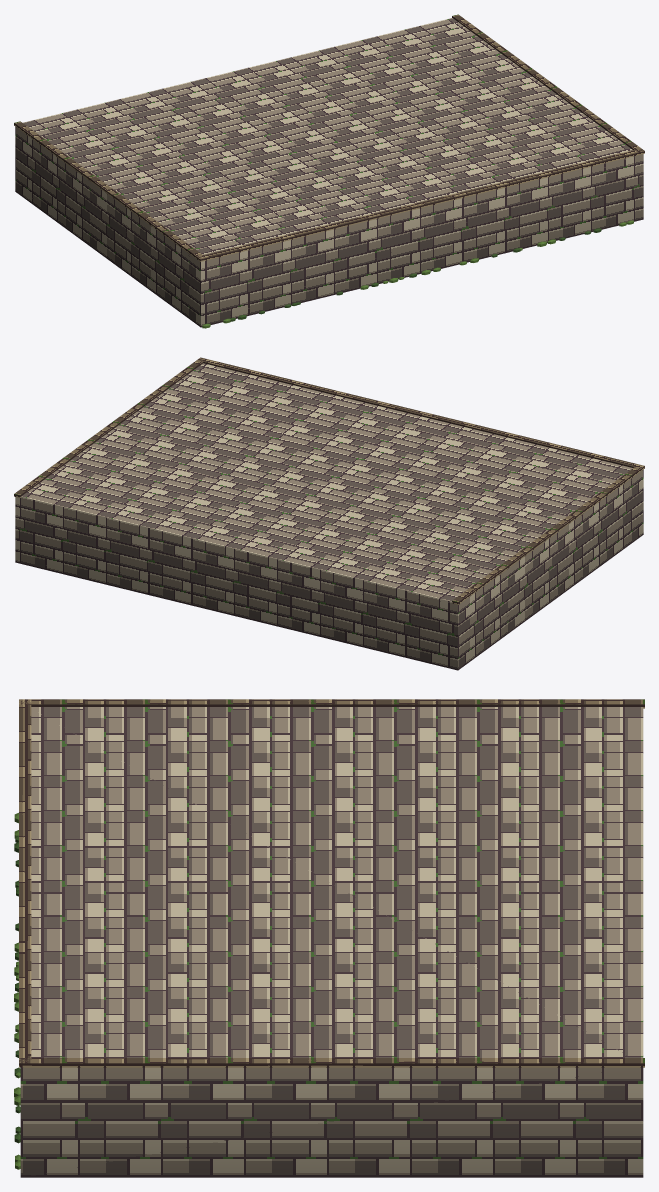
Rendered from scene_wall_n.glb.
The picture shows the model from 3 angles, top to bottom: view 1: azimuth 30°, elevation 25°; view 2: azimuth 150°, elevation 25°; view 3: azimuth 270°, elevation 25°; orthographic projection. The views are drawn at different scales.
Parts seen in each view (by area): view 1: scene_wall_n; view 2: scene_wall_n; view 3: scene_wall_n.
Boxes of the visible parts, x1,y1,x2,y2 form: scene_wall_n: (14, 14, 644, 328); scene_wall_n: (14, 357, 644, 670); scene_wall_n: (14, 699, 644, 1177).
Size of the model in its own units: 24.9 by 3.77 by 18.24.
Materials: 2 (1 with a texture image).
